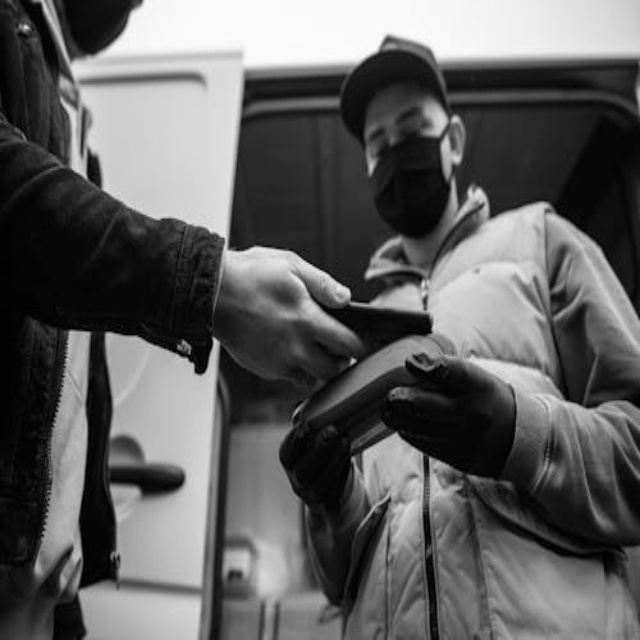Guantes: (385, 349, 517, 481), (279, 414, 355, 514)
Mascara: (371, 127, 453, 237), (56, 0, 144, 59)
Sin_gafas: (362, 94, 436, 163)
Sin_guantes: (213, 243, 368, 392)
